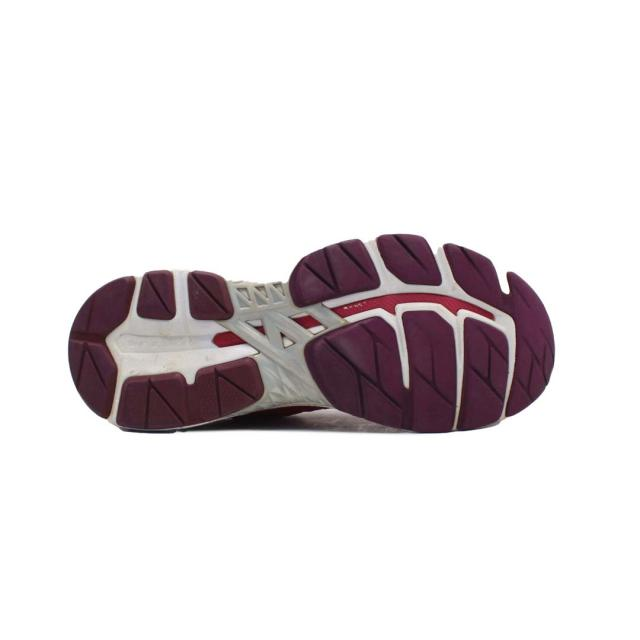outersole: (66, 232, 556, 441)
